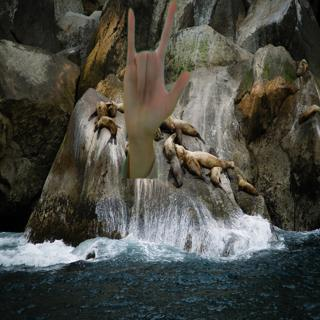ILY: (121, 1, 194, 149)
